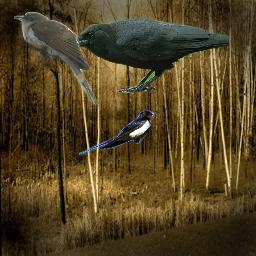Crow: (66, 18, 230, 95)
Cuckoo: (14, 12, 98, 108)
Swallow: (78, 110, 155, 155)
